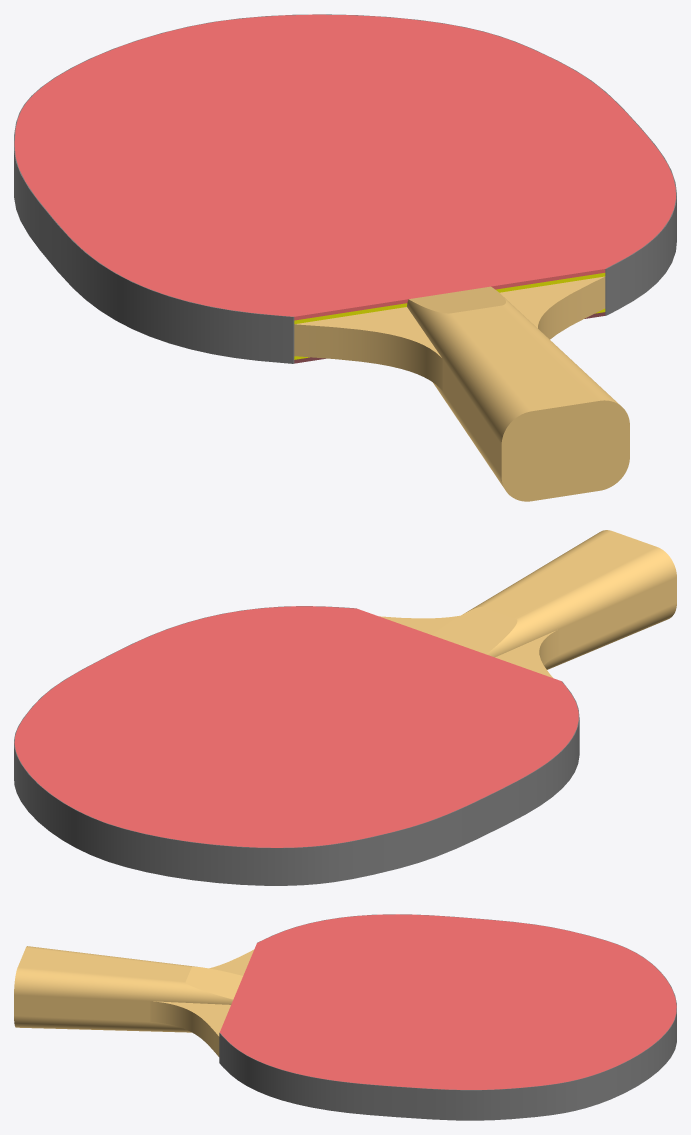
Rendered from pingpong.glb.
3 views of the same model, one above another, from view 1: azimuth 30°, elevation 25°; view 2: azimuth 150°, elevation 25°; view 3: azimuth 270°, elevation 25° (orthographic). The views are drawn at different scales.
Visible parts, largest first — view 1: hand; view 2: hand; view 3: hand.
Boxes of the visible parts, x1,y1,x2,y2 form: hand: (14, 14, 676, 501); hand: (14, 530, 676, 885); hand: (14, 914, 676, 1120).
Bounding box in the file's own units: 22.05 × 3.41 × 35.08.
